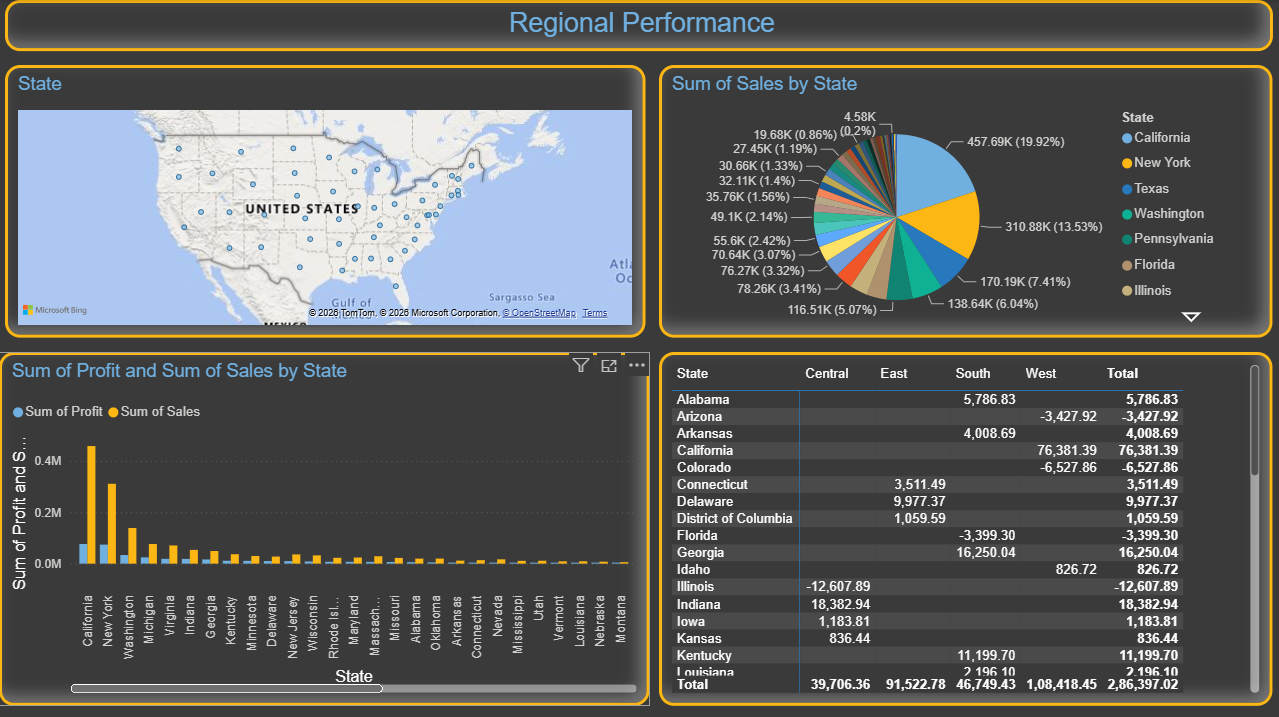

What the dashboard file says about the page in this screenshot:
{"tool":"powerbi","page":{"name":"Regional performace","canvas":[1280,720],"ordinal":2},"visuals":[{"type":"map","fields":{"Category":["Sample -- Superstore (2).State"]},"box":[5.8,65,638.8,271.8],"z":0},{"type":"clusteredColumnChart","fields":{"Category":["Sample -- Superstore (2).State"],"Y":["Sum(Sample -- Superstore (2).Profit)","Sum(Sample -- Superstore (2).Sales)"]},"box":[0,350.8,649.3,353.1],"z":1000},{"type":"pieChart","fields":{"Category":["Sample -- Superstore (2).State"],"Y":["Sum(Sample -- Superstore (2).Sales)"]},"box":[658.6,65,612.1,271.8],"z":2000},{"type":"pivotTable","fields":{"Columns":["Sample -- Superstore (2).Region"],"Rows":["Sample -- Superstore (2).State"],"Values":["Sum(Sample -- Superstore (2).Profit)"]},"box":[658.6,350.8,612.1,353.1],"z":3000},{"type":"textbox","title":"Regional Performance","box":[5.8,0,1264.9,51.1],"z":4000}]}

Visuals, with their boxes in screenshot pixels (x1, y1, x2, y2), scaled from the page's 1280x720 canvas onto the 1279x717 screenshot:
map - Sample -- Superstore (2).State: x1=6, y1=65, x2=644, y2=335
clusteredColumnChart - Sample -- Superstore (2).State x Sum(Sample -- Superstore (2).Profit): x1=0, y1=349, x2=649, y2=701
pieChart - Sample -- Superstore (2).State x Sum(Sample -- Superstore (2).Sales): x1=658, y1=65, x2=1270, y2=335
pivotTable - Sample -- Superstore (2).Region x Sample -- Superstore (2).State: x1=658, y1=349, x2=1270, y2=701
"Regional Performance" textbox: x1=6, y1=0, x2=1270, y2=51
